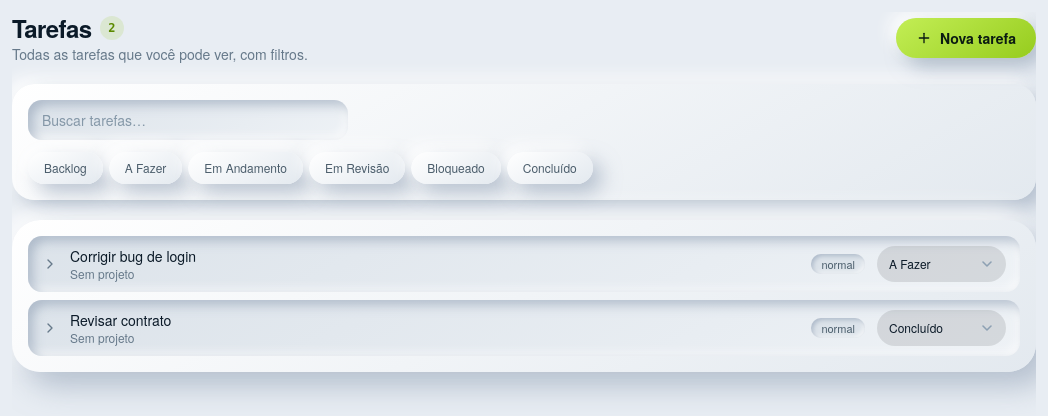
Tasks page › filters the visible tasks when a status filter is toggled
Check: the text "Corrigir bug de login" is shown, box [70,246,196,266]
Click the button "Concluído": (550, 168) [507,152,593,184]
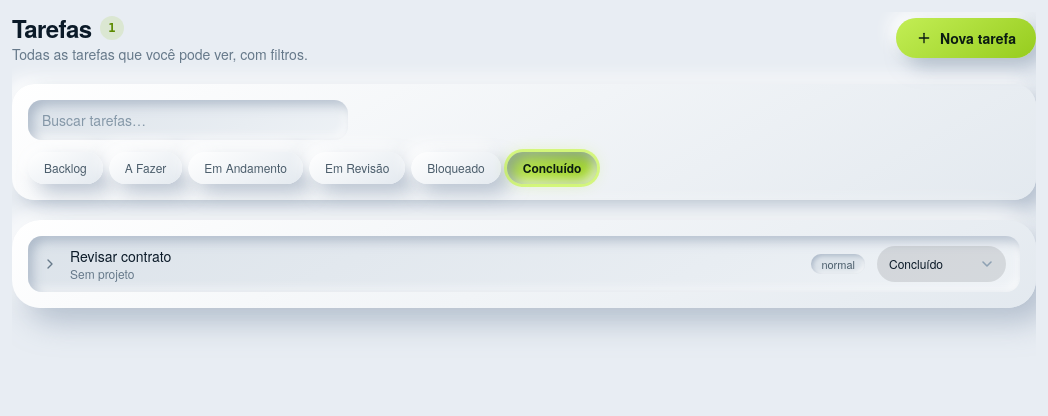
Check: the text "Revisar contrato" is shown, box [70,246,171,266]
Check: the button "Corrigir bug de login" is gone
